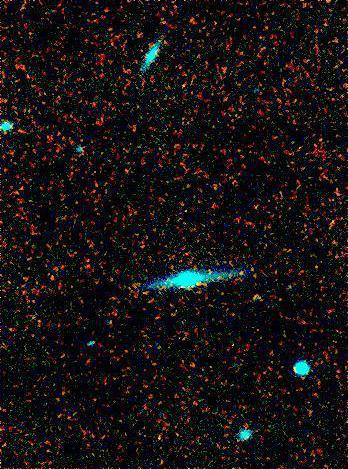star: (226, 258, 256, 288)
